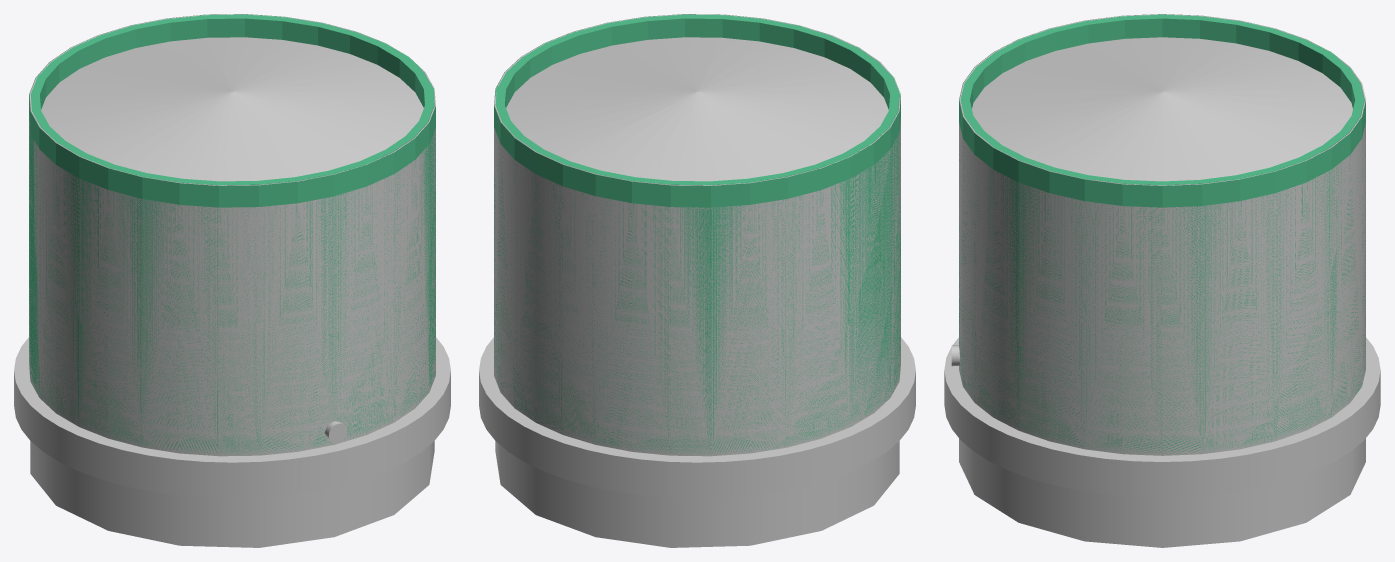
Rendered from jri_fuel_tank.dae.
3 renders of one model, left to right at view 1: azimuth 30°, elevation 25°; view 2: azimuth 150°, elevation 25°; view 3: azimuth 270°, elevation 25°, orthographic.
Parts seen in each view (by area): view 1: ind_bld_a430, Colmesh-1, ind_bld_a30, ind_bld_a150; view 2: ind_bld_a430, Colmesh-1, ind_bld_a30, ind_bld_a150; view 3: ind_bld_a430, Colmesh-1, ind_bld_a30, ind_bld_a150.
Boxes of the visible parts, x1,y1,x2,y2 form: ind_bld_a430: (14,14,450,497); Colmesh-1: (29,14,435,454); ind_bld_a30: (30,441,434,547); ind_bld_a150: (16,342,448,461); ind_bld_a430: (479,14,915,497); Colmesh-1: (494,14,900,454); ind_bld_a30: (495,441,899,547); ind_bld_a150: (481,340,913,461); ind_bld_a430: (944,14,1380,497); Colmesh-1: (959,14,1365,454); ind_bld_a30: (959,438,1365,547); ind_bld_a150: (944,339,1380,461).
Size of the model in its own units: 25.72 by 25.72 by 24.07.
